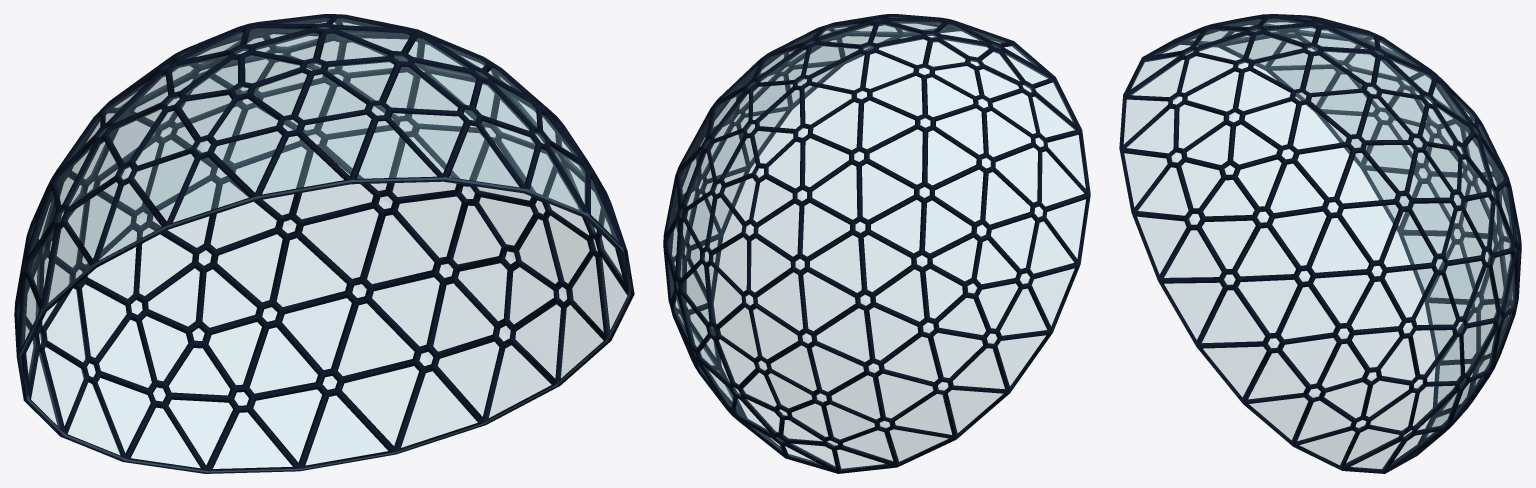
The model's file is invernadero2.fbx.
3 views of the same model, side by side, from view 1: azimuth 30°, elevation 25°; view 2: azimuth 150°, elevation 25°; view 3: azimuth 270°, elevation 25° (orthographic). The views are drawn at different scales.
Parts seen in each view (by area): view 1: Icosphere.006, Icosphere.005; view 2: Icosphere.006, Icosphere.005; view 3: Icosphere.006, Icosphere.005.
Boxes of the visible parts, bbox=[...] form: Icosphere.006: bbox=[18, 18, 630, 472]; Icosphere.005: bbox=[14, 14, 634, 473]; Icosphere.006: bbox=[668, 17, 1085, 469]; Icosphere.005: bbox=[663, 14, 1090, 473]; Icosphere.006: bbox=[1124, 18, 1517, 469]; Icosphere.005: bbox=[1119, 14, 1521, 473].
Bounding box in the file's own units: 0.9904 × 0.9013 × 0.8329.
